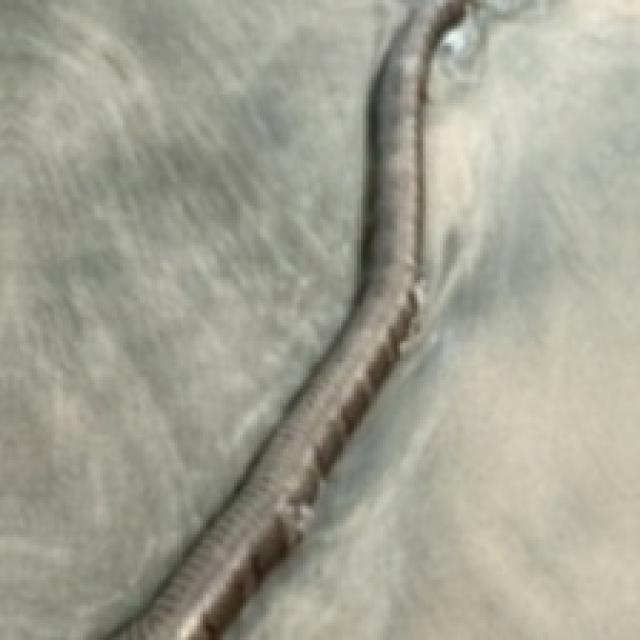king cobra: (226, 0, 637, 637), (0, 0, 411, 637)
